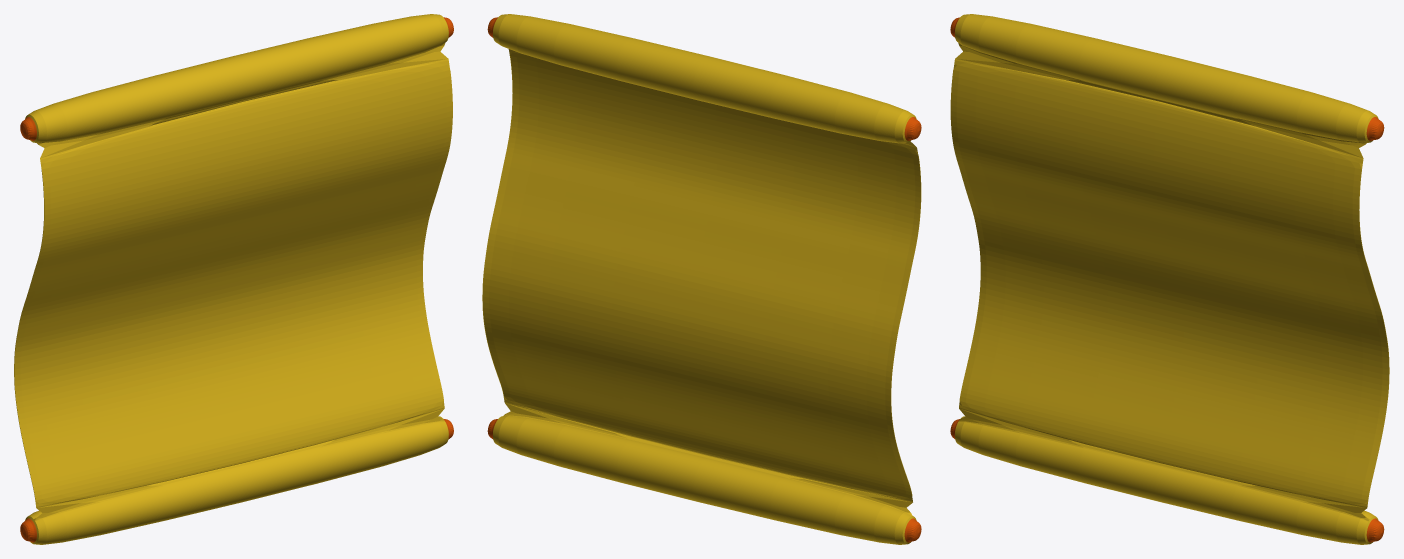
The model's file is Scroll.fbx.
The picture shows the model from 3 angles, left to right: view 1: azimuth 30°, elevation 25°; view 2: azimuth 150°, elevation 25°; view 3: azimuth 330°, elevation 25°; orthographic projection.
Parts seen in each view (by area): view 1: Circle; view 2: Circle; view 3: Circle.
Part boxes in pixels (box(x1,y1,x2,y2)): Circle: box(14, 14, 453, 544); Circle: box(482, 14, 921, 544); Circle: box(950, 14, 1389, 544).
Bounding box in the file's own units: 825 × 812 × 104.
